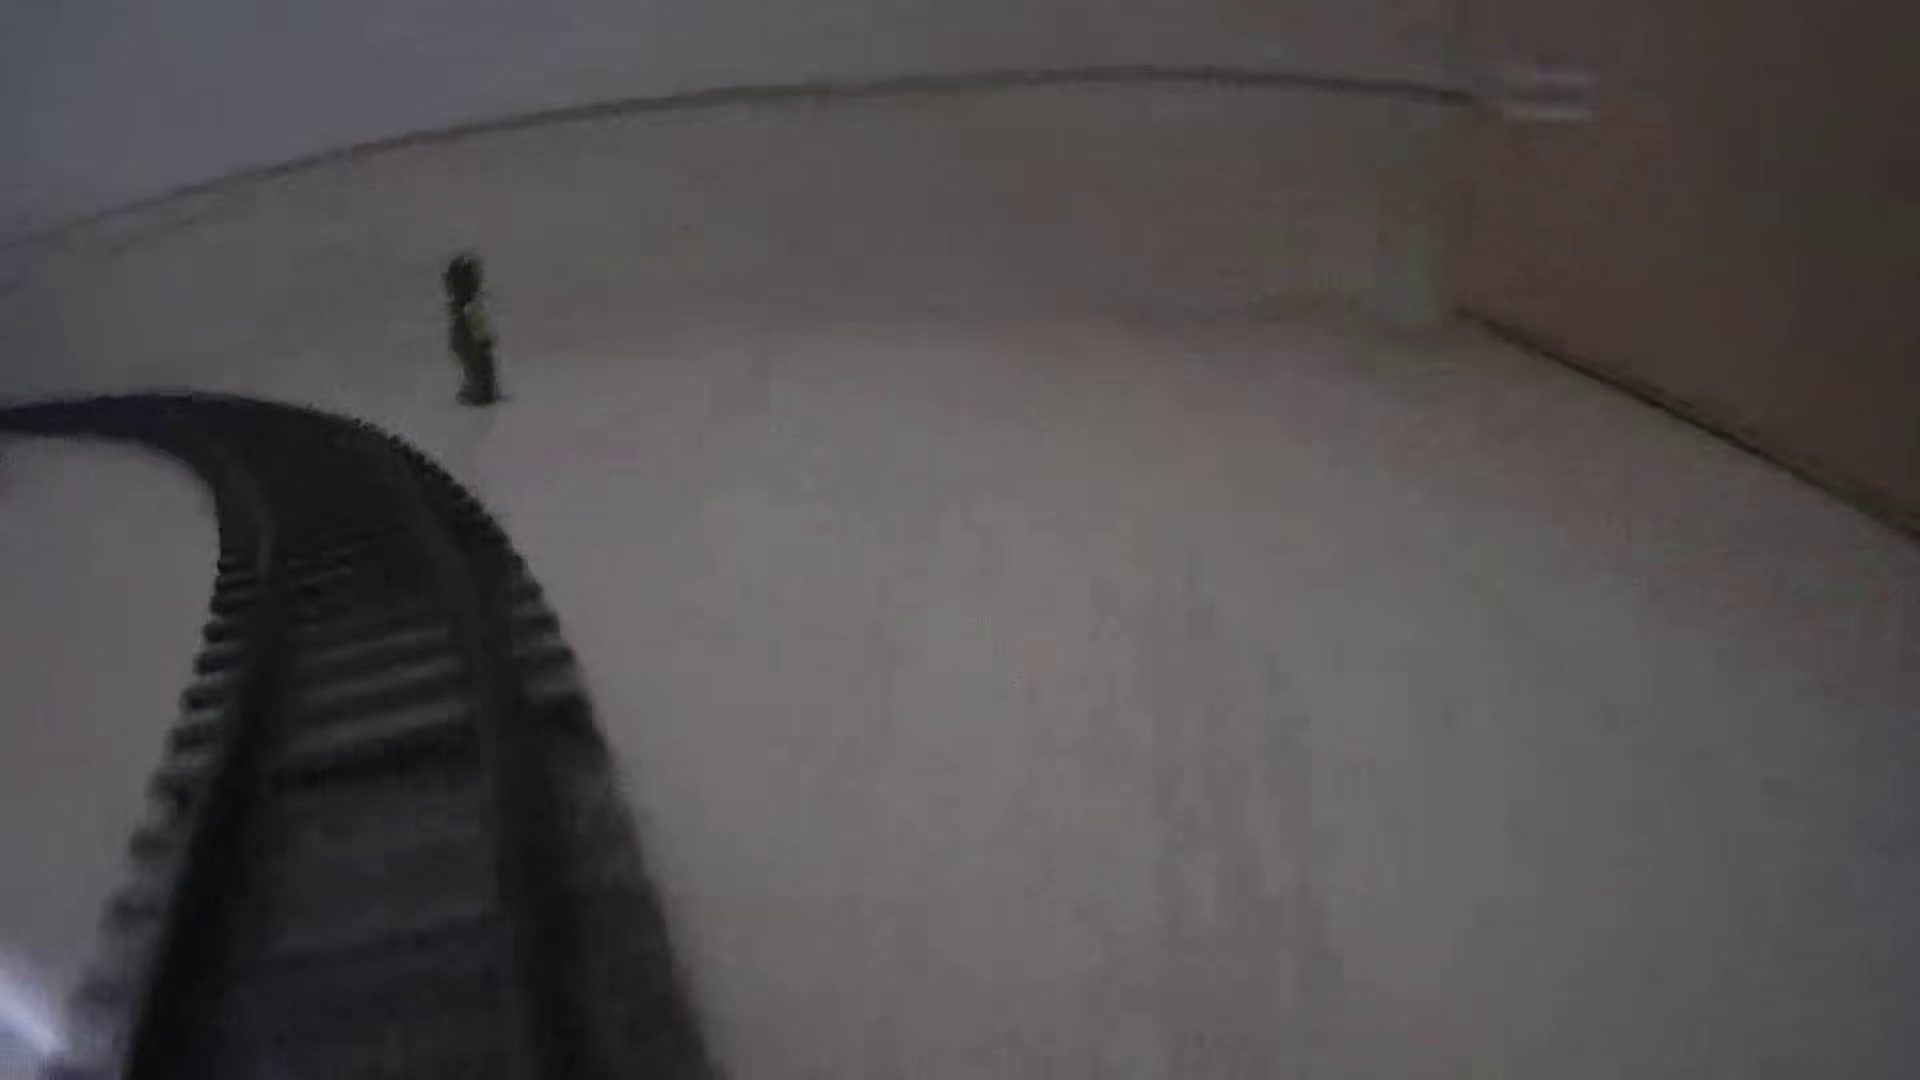people: (442, 250, 509, 407)
